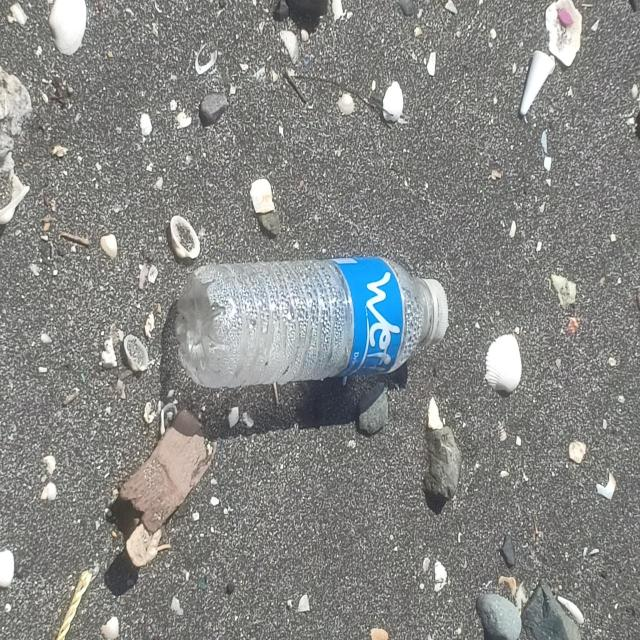plastic_waste: (174, 255, 451, 391)
